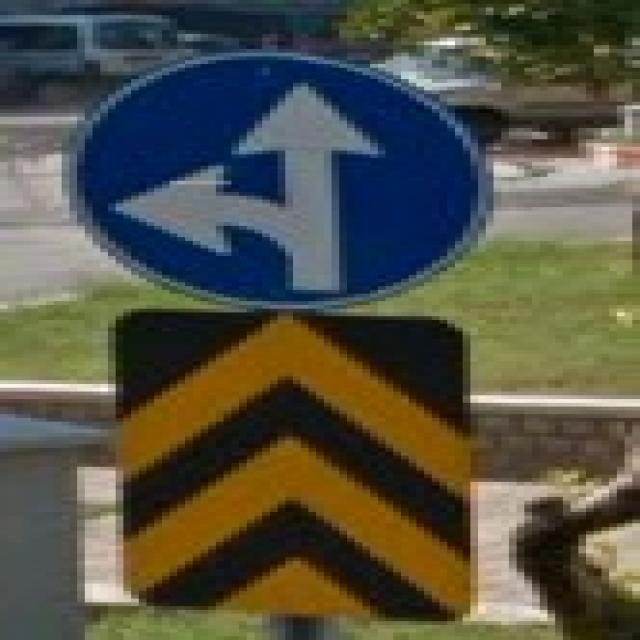Straight or Left: (63, 54, 487, 310)
